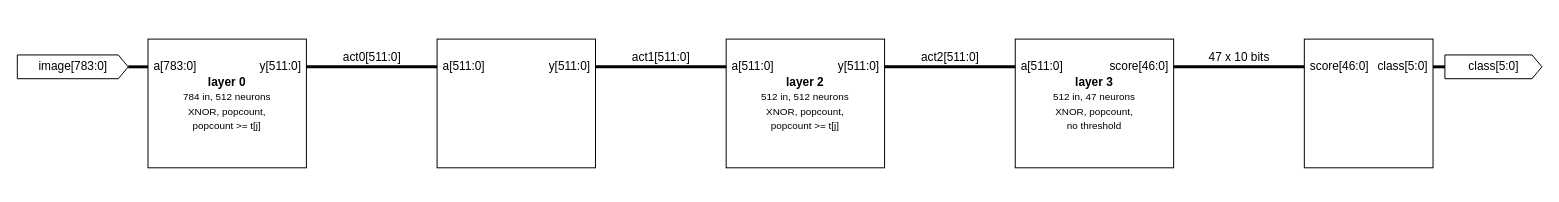
Some shapes in this 1559 by 202 pixel diagram are drawn without their labels. Each missing label, with the box of its shape:
argmax index of the largest score: (1303, 38, 1433, 168)
layer 1 512 in, 512 neurons XNOR, popcount, popcount >= t[j]: (436, 38, 595, 168)
